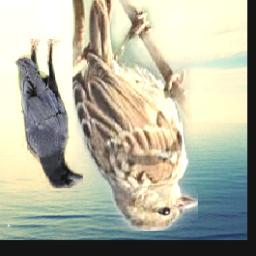Crow: (15, 39, 84, 188)
Sparrow: (72, 0, 198, 232)
